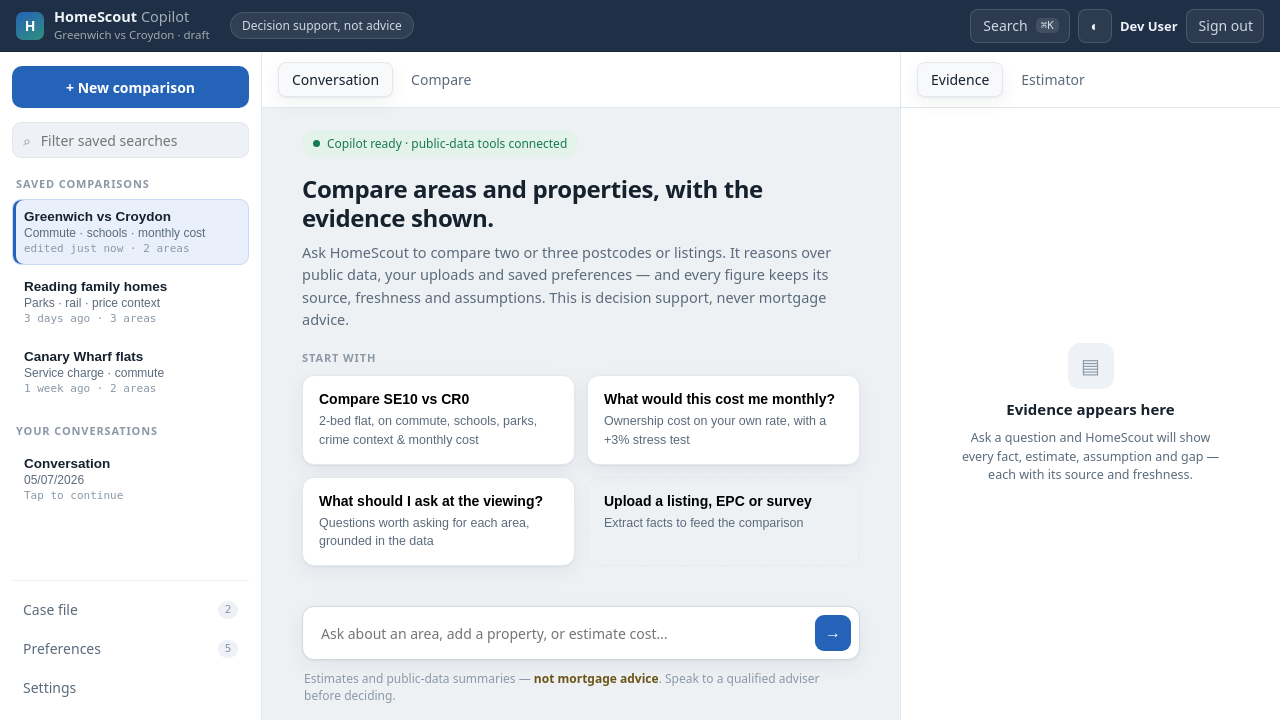
Scenario: auth + per-user history › reopens a conversation through the resume endpoint
Click the button "Conversation 05/07/2026 Tap to continue": click(130, 479) 12,446 -> 249,512
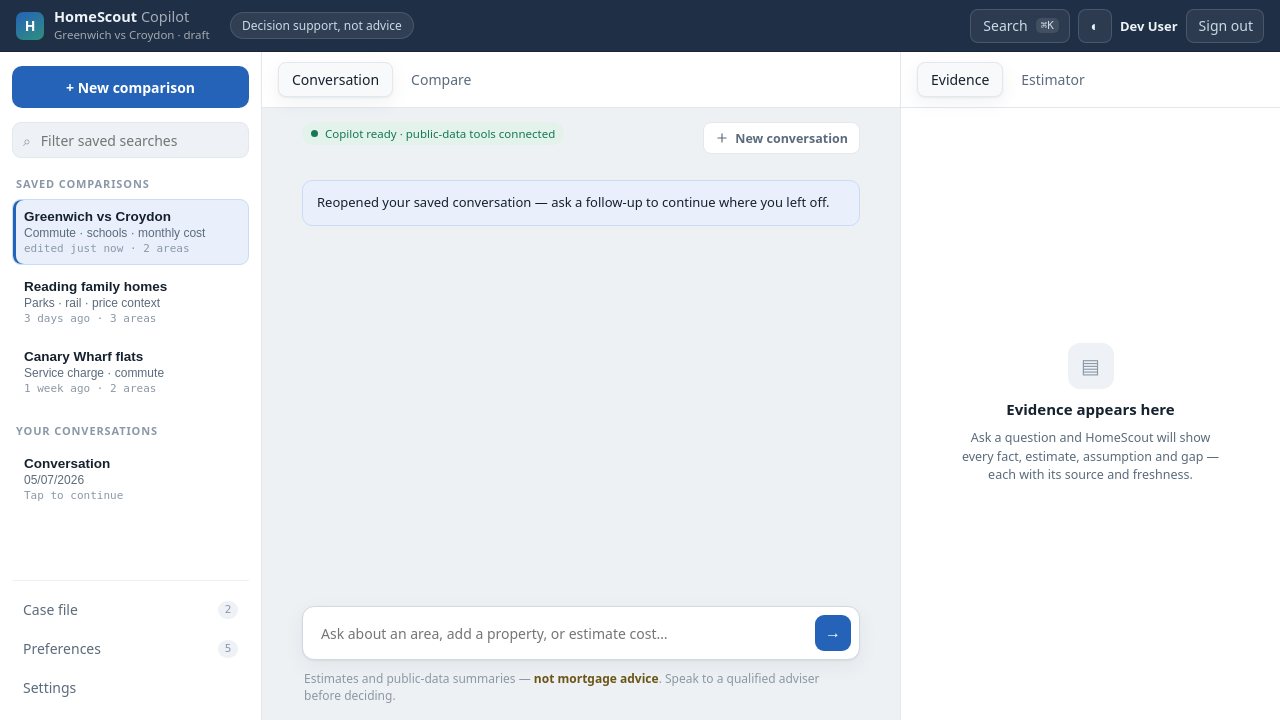
Expected: the text "Reopened your saved conversation" is shown, 317,193 -> 830,211
